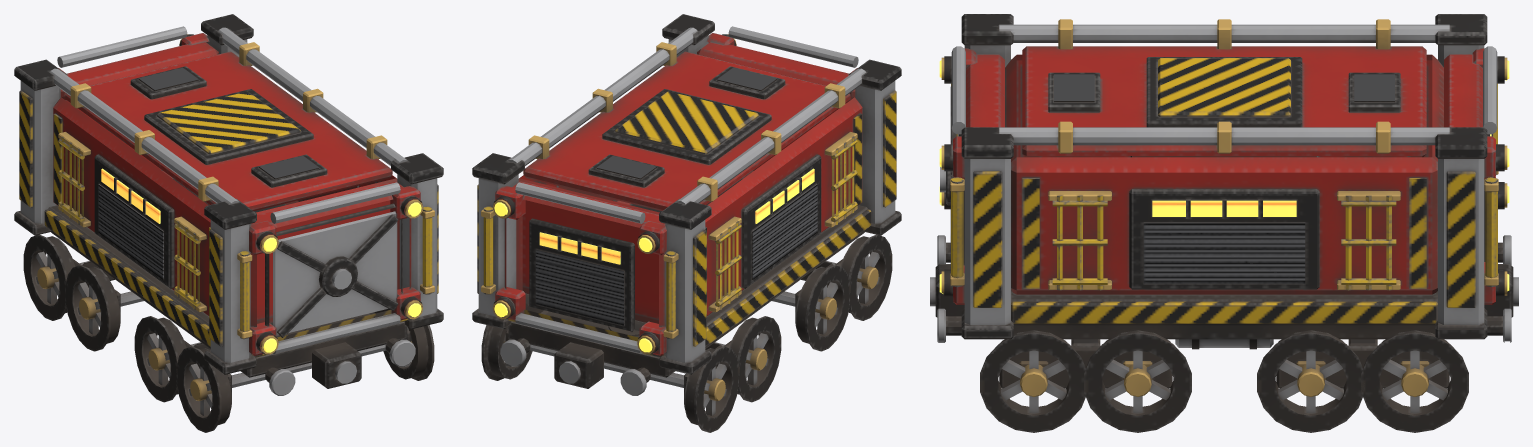
File: SM_DRL_StorageBlock.fbx
3 views of the same model, side by side, from view 1: azimuth 30°, elevation 25°; view 2: azimuth 150°, elevation 25°; view 3: azimuth 270°, elevation 25° (orthographic). The views are drawn at different scales.
Parts seen in each view (by area): view 1: Body, Axle_4, Axle_2, Axle_3, Axle_1; view 2: Body, Axle_1, Axle_3, Axle_2, Axle_4; view 3: Body, Axle_3, Axle_1, Axle_2, Axle_4.
Part boxes in pixels (bbox=[...]): Body: bbox=[14, 14, 443, 404]; Axle_4: bbox=[176, 325, 434, 432]; Axle_2: bbox=[65, 265, 143, 351]; Axle_3: bbox=[134, 316, 201, 402]; Axle_1: bbox=[23, 234, 90, 320]; Body: bbox=[472, 14, 901, 404]; Axle_1: bbox=[481, 303, 739, 432]; Axle_3: bbox=[772, 265, 850, 351]; Axle_2: bbox=[714, 316, 781, 402]; Axle_4: bbox=[825, 234, 892, 320]; Body: bbox=[930, 14, 1518, 388]; Axle_3: bbox=[1084, 330, 1191, 432]; Axle_1: bbox=[1361, 330, 1468, 432]; Axle_2: bbox=[1257, 330, 1364, 432]; Axle_4: bbox=[980, 330, 1085, 432].
Size of the model in its own units: 1.1 by 2.04 by 1.12.
